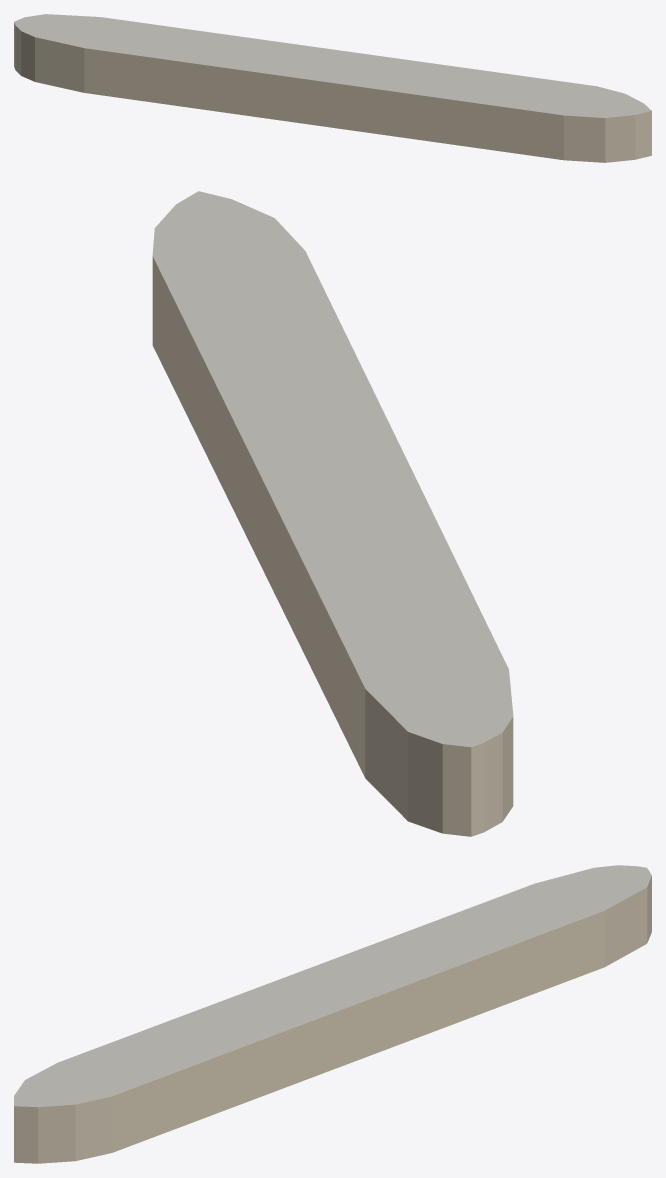
3 views of the same model, one above another, from view 1: azimuth 30°, elevation 25°; view 2: azimuth 150°, elevation 25°; view 3: azimuth 270°, elevation 25° (orthographic). The views are drawn at different scales.
Parts seen in each view (by area): view 1: tuile; view 2: tuile; view 3: tuile.
Part boxes in pixels (bbox=[...]): tuile: bbox=[14, 14, 651, 162]; tuile: bbox=[152, 191, 513, 836]; tuile: bbox=[14, 865, 651, 1163].
Size of the model in its own units: 47.3 by 5.15 by 52.7.
